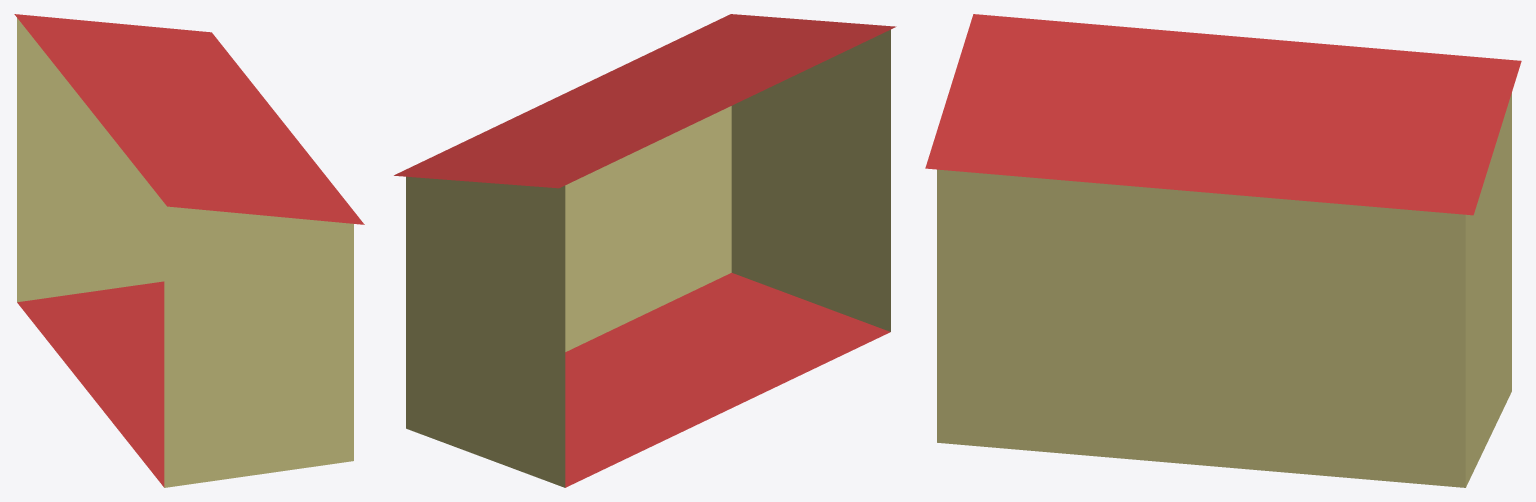
The picture shows the model from 3 angles, left to right: view 1: azimuth 30°, elevation 25°; view 2: azimuth 150°, elevation 25°; view 3: azimuth 270°, elevation 25°; orthographic projection. The views are drawn at different scales.
Size of the model in its own units: 8.68 by 14.85 by 9.11.
